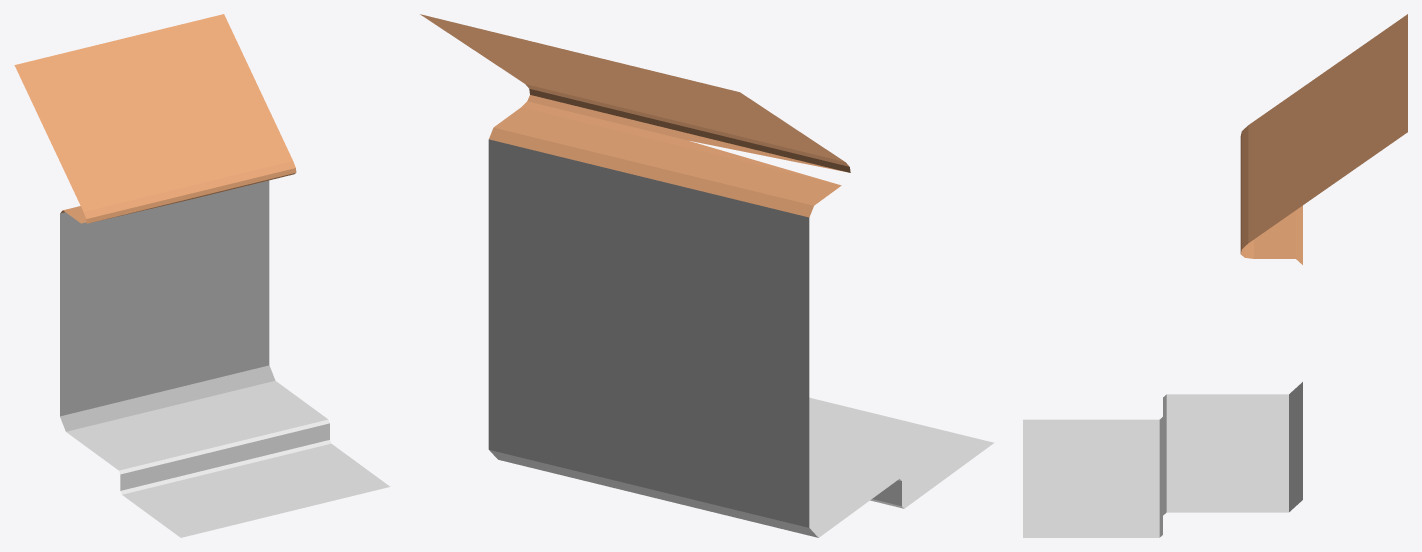
Rendered from SegmenShort.fbx.
The picture shows the model from 3 angles, left to right: view 1: azimuth 30°, elevation 25°; view 2: azimuth 150°, elevation 25°; view 3: azimuth 270°, elevation 25°; orthographic projection. The views are drawn at different scales.
Parts seen in each view (by area): view 1: Plane; view 2: Plane; view 3: Plane.
Part boxes in pixels (bbox=[...]): Plane: bbox=[14, 14, 390, 537]; Plane: bbox=[420, 14, 994, 537]; Plane: bbox=[1023, 14, 1407, 537].
Size of the model in its own units: 200 by 320 by 275.
